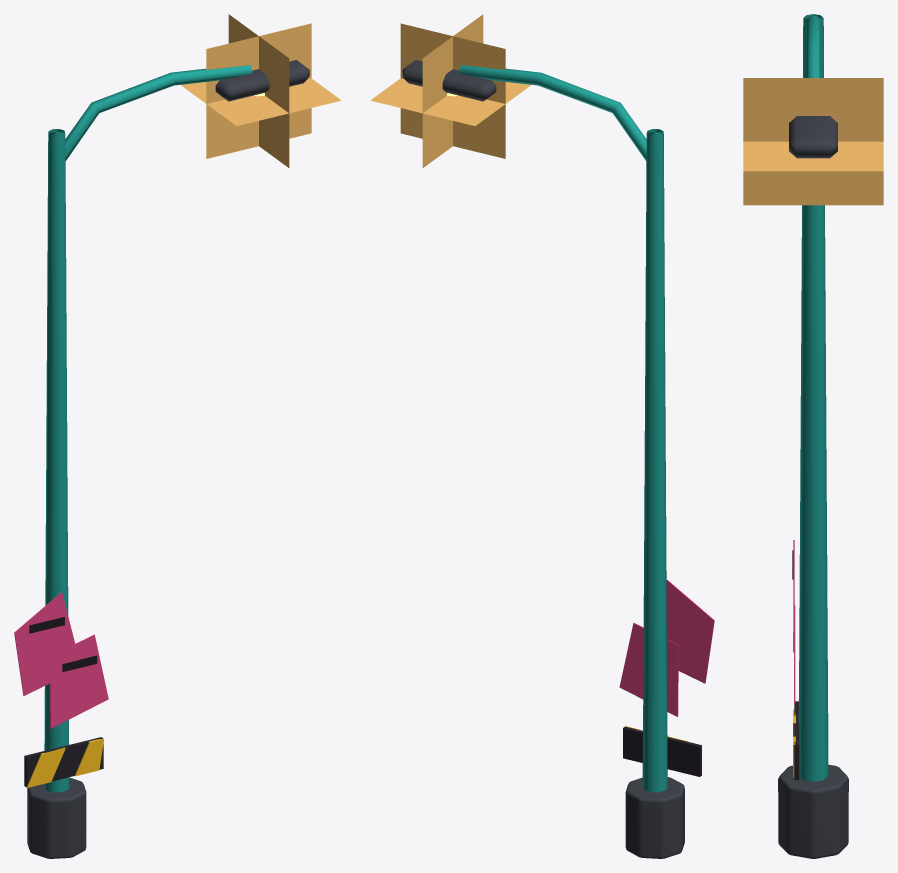
The model's file is city_streetlight.glb.
The picture shows the model from 3 angles, left to right: view 1: azimuth 30°, elevation 25°; view 2: azimuth 150°, elevation 25°; view 3: azimuth 270°, elevation 25°; orthographic projection. The views are drawn at different scales.
Parts seen in each view (by area): view 1: Streetlight; view 2: Streetlight; view 3: Streetlight.
Boxes of the visible parts, x1=… form: Streetlight: x1=14, y1=14, x2=341, y2=858; Streetlight: x1=370, y1=14, x2=714, y2=858; Streetlight: x1=743, y1=14, x2=883, y2=858.
Bounding box in the file's own units: 3.17 × 7.57 × 1.09.
